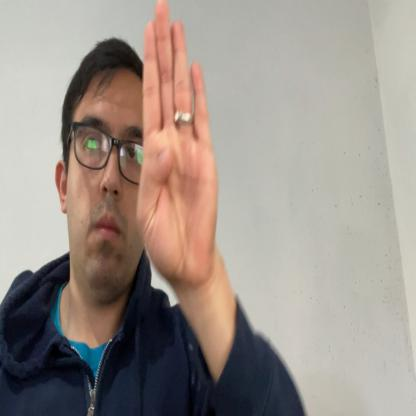B: (138, 0, 220, 291)
